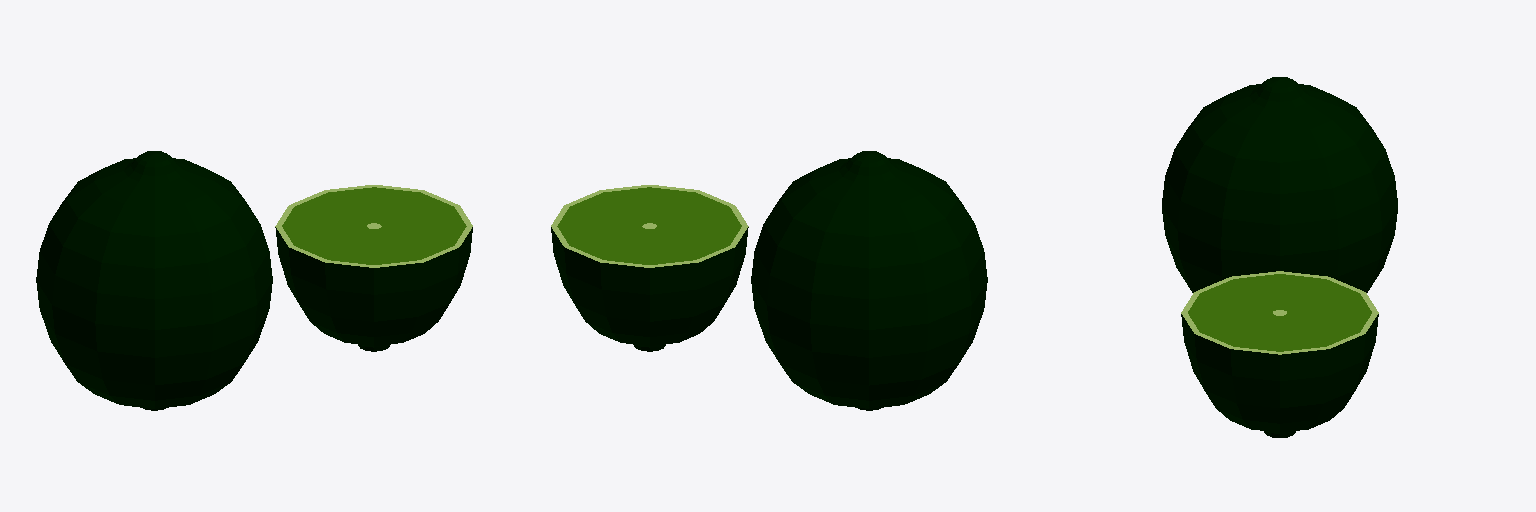
The model's file is lime.obj.
3 views of the same model, side by side, from view 1: azimuth 30°, elevation 25°; view 2: azimuth 150°, elevation 25°; view 3: azimuth 270°, elevation 25° (orthographic).
Size of the model in its own units: 3.98 by 2.37 by 2.